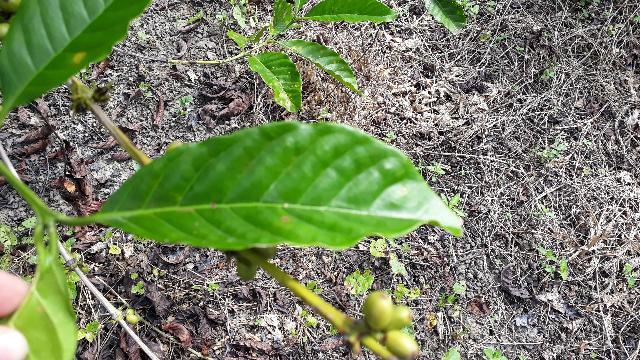red_spider_mite: (93, 122, 464, 247)
